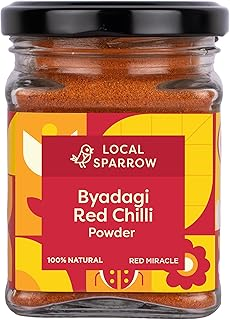Chilli Powder: (2, 3, 230, 317)
